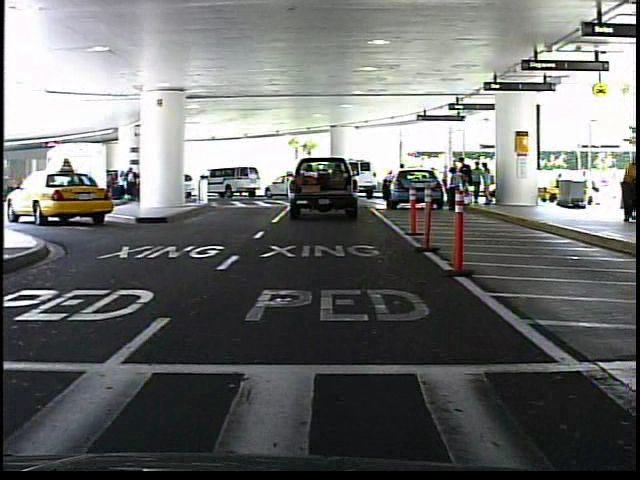person: (612, 151, 640, 224), (394, 159, 411, 199)
